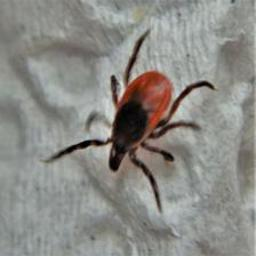Ixodes scapularis: (87, 12, 233, 186)
